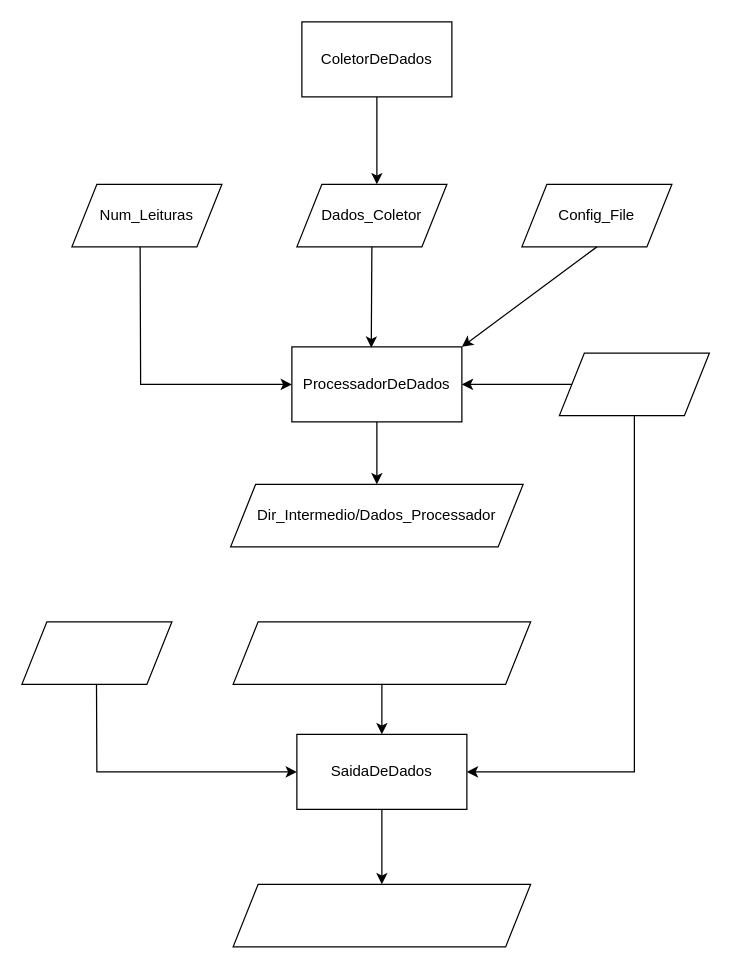
The diagram is 731 pixels wide and 969 high, and some of its shapes have lost their labels. The centre of each missing label's shape, as x and y in pixels:
"Dir_FarmCoordinator" goes at pixel 381 652.
"Dir_FarmCoordinator/Dados_Saida" goes at pixel 381 915.
"Dir_Intermedio" goes at pixel 633 384.
"Periodicidade" goes at pixel 96 652.
